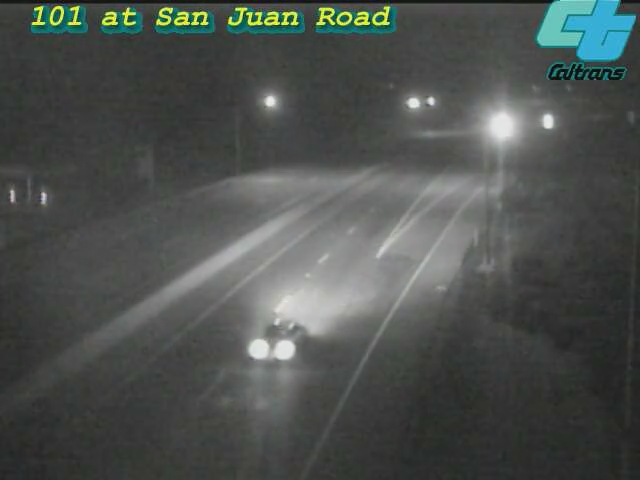vehicle: (227, 282, 337, 392), (475, 101, 525, 151), (523, 95, 573, 145)
